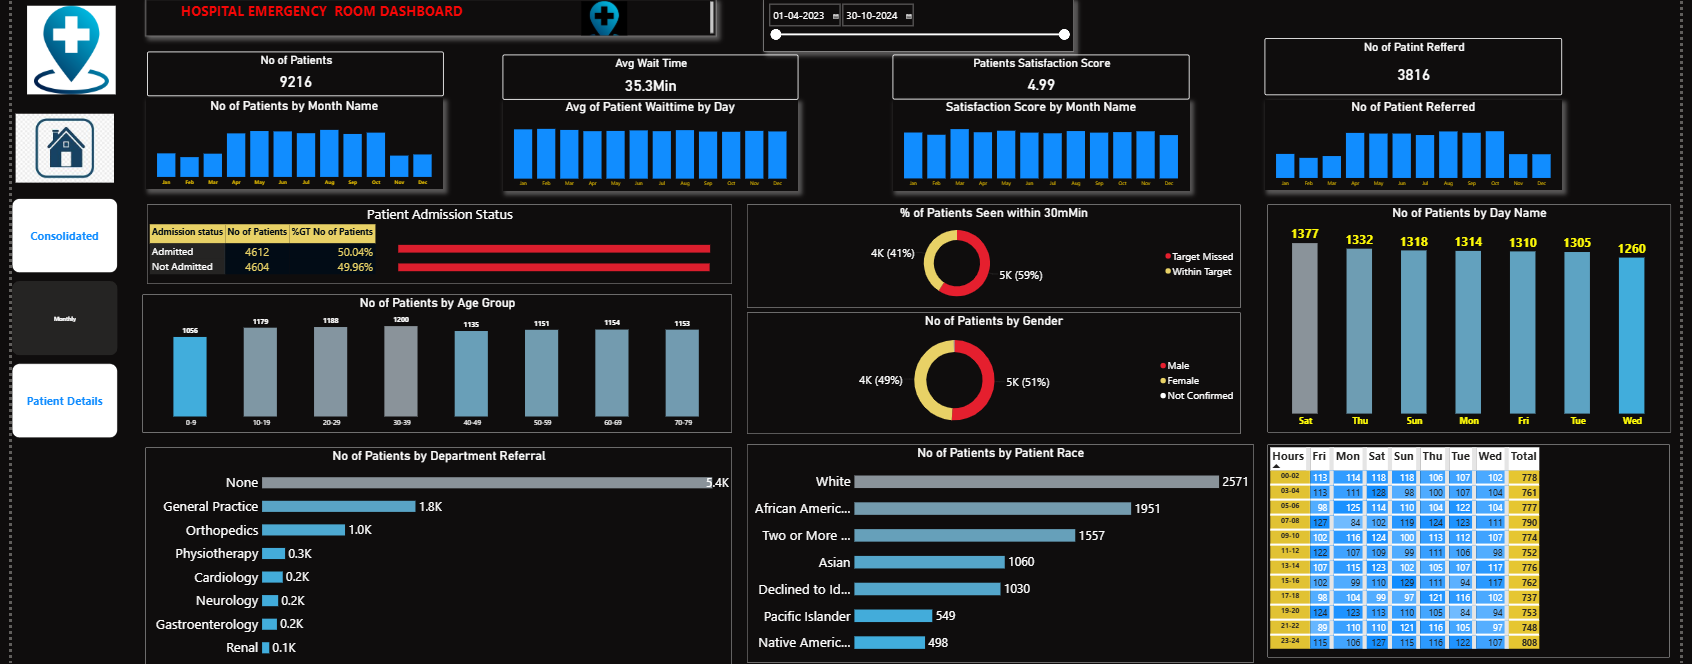

Layout of this report page (visuals, bound fields, positions):
{"tool":"powerbi","page":{"name":"Monthly","canvas":[4000,1600],"ordinal":1},"visuals":[{"type":"card","title":"No of Patients","fields":{"Values":["Hospital ER_Data.No of Patients"]},"box":[322.8,125.1,712,107],"z":0},{"type":"slicer","title":"Year","fields":{"Values":["Date Table.Date"]},"box":[1802.7,0,744.8,125.9],"z":1000},{"type":"columnChart","fields":{"Y":["Hospital ER_Data.No of Patients"],"Category":["Date Table.Month Name"]},"box":[318.8,238.1,714.2,219],"z":2000},{"type":"columnChart","title":"Avg of Patient Waittime by Day","fields":{"Category":["Date Table.Month Name"],"Y":["Avg(Hospital ER_Data.Patient Waittime)"]},"box":[1176.6,241.1,708.9,219.5],"z":3000},{"type":"columnChart","fields":{"Category":["Date Table.Month Name"],"Y":["Hospital ER_Data.Satisfaction Score"]},"box":[2112.2,241.1,712.5,219],"z":4000},{"type":"columnChart","title":"No of Patient Referred","fields":{"Category":["Date Table.Month Name"],"Y":["Hospital ER_Data.No of Patient Referred"]},"box":[3006.1,242.1,714.2,217.9],"z":5000},{"type":"card","title":"Avg Wait Time","fields":{"Values":["Hospital ER_Data.Avg Wait Time"]},"box":[1178.2,133.2,710.2,108.9],"z":6000},{"type":"card","title":"Patients Satisfaction Score","fields":{"Values":["Hospital ER_Data.Satisfaction Score"]},"box":[2112.2,133.1,712.5,107.9],"z":7000},{"type":"card","title":"No of Patint Refferd","fields":{"Values":["Hospital ER_Data.No of Patient Referred"]},"box":[3006.1,92.8,714.2,137.2],"z":8000},{"type":"pivotTable","title":"Patient Admission Status","fields":{"Rows":["Hospital ER_Data.Admission status"],"Values":["Hospital ER_Data.No of Patients1","Hospital ER_Data.No of Patients"]},"box":[323.8,493,1403.3,190.7],"z":9000},{"type":"barChart","fields":{"Category":["Hospital ER_Data.Admission status"],"Y":["Hospital ER_Data.No of Patients"]},"box":[921.2,554.1,780.8,129.5],"z":10000},{"type":"clusteredColumnChart","fields":{"Category":["Hospital ER_Data.Age Group"],"Y":["Hospital ER_Data.No of Patients"]},"box":[313.1,708.9,1414.1,331],"z":11000},{"type":"clusteredBarChart","fields":{"Category":["Hospital ER_Data.Department Referral"],"Y":["Hospital ER_Data.No of Patients"]},"box":[320.2,1075.9,1406.9,525.3],"z":12000},{"type":"donutChart","title":"% of Patients Seen within 30mMin","fields":{"Category":["Hospital ER_Data.Waittime Status"],"Y":["Hospital ER_Data.No of Patients"]},"box":[1763.2,493,1183.8,248.3],"z":13000},{"type":"donutChart","title":"No of Patients by Gender","fields":{"Y":["Hospital ER_Data.No of Patients"],"Category":["Hospital ER_Data.Patient Gender"]},"box":[1763.2,752,1183.8,291.5],"z":14000},{"type":"clusteredBarChart","fields":{"Y":["Hospital ER_Data.No of Patients"],"Category":["Hospital ER_Data.Patient Race"]},"box":[1763.2,1068.7,1216.2,525.3],"z":15000},{"type":"pivotTable","fields":{"Rows":["Hospital ER_Data.Waittime Interval"],"Columns":["Date Table.Day Name"],"Values":["Hospital ER_Data.No of Patients"]},"box":[3011.8,1068.7,964.3,511],"z":16000},{"type":"columnChart","fields":{"Category":["Date Table.Day Name"],"Y":["Hospital ER_Data.No of Patients"]},"box":[3011.8,493,967.9,546.9],"z":17000},{"type":"textbox","box":[319.2,0,1369,89],"z":18000},{"type":"image","box":[1311,0,221.6,92.3],"z":19000},{"type":"pageNavigator","box":[0,478.3,253.2,576.8],"z":20000},{"type":"image","box":[28.8,10.8,226.7,223.1],"z":21000},{"type":"image","box":[0,270.8,253.2,175.9],"z":22000}]}

Visuals, with their boxes in screenshot pixels (x1, y1, x2, y2), scaled from the page's 4000x1600 canvas onto the 1692x664 screenshot:
"No of Patients" card: Rect(137, 52, 438, 96)
"Year" slicer: Rect(763, 0, 1078, 52)
columnChart - Hospital ER_Data.No of Patients x Date Table.Month Name: Rect(135, 99, 437, 190)
"Avg of Patient Waittime by Day" columnChart: Rect(498, 100, 798, 191)
columnChart - Date Table.Month Name x Hospital ER_Data.Satisfaction Score: Rect(893, 100, 1195, 191)
"No of Patient Referred" columnChart: Rect(1272, 100, 1574, 191)
"Avg Wait Time" card: Rect(498, 55, 799, 100)
"Patients Satisfaction Score" card: Rect(893, 55, 1195, 100)
"No of Patint Refferd" card: Rect(1272, 39, 1574, 95)
"Patient Admission Status" pivotTable: Rect(137, 205, 731, 284)
barChart - Hospital ER_Data.Admission status x Hospital ER_Data.No of Patients: Rect(390, 230, 720, 284)
clusteredColumnChart - Hospital ER_Data.Age Group x Hospital ER_Data.No of Patients: Rect(132, 294, 731, 432)
clusteredBarChart - Hospital ER_Data.Department Referral x Hospital ER_Data.No of Patients: Rect(135, 446, 731, 663)
"% of Patients Seen within 30mMin" donutChart: Rect(746, 205, 1247, 308)
"No of Patients by Gender" donutChart: Rect(746, 312, 1247, 433)
clusteredBarChart - Hospital ER_Data.No of Patients x Hospital ER_Data.Patient Race: Rect(746, 444, 1260, 662)
pivotTable - Hospital ER_Data.Waittime Interval x Date Table.Day Name: Rect(1274, 444, 1682, 656)
columnChart - Date Table.Day Name x Hospital ER_Data.No of Patients: Rect(1274, 205, 1683, 432)
textbox: Rect(135, 0, 714, 37)
image: Rect(555, 0, 648, 38)
pageNavigator: Rect(0, 198, 107, 438)
image: Rect(12, 4, 108, 97)
image: Rect(0, 112, 107, 185)
